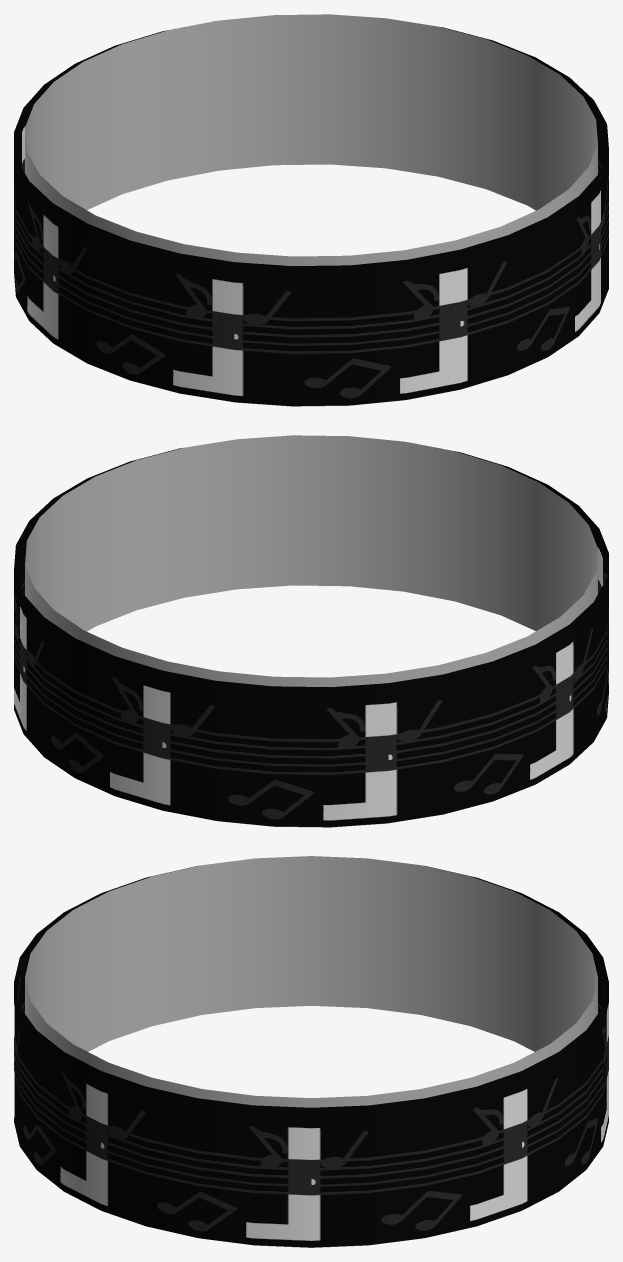
Rendered from LiveDomeCircle.fbx.
3 views of the same model, one above another, from view 1: azimuth 30°, elevation 25°; view 2: azimuth 150°, elevation 25°; view 3: azimuth 270°, elevation 25° (orthographic).
Visible parts, largest first — view 1: CircleIn, CircleOut; view 2: CircleIn, CircleOut; view 3: CircleIn, CircleOut.
Boxes of the visible parts, x1,y1,x2,y2 form: CircleIn: (25,14,597,406); CircleOut: (14,21,608,406); CircleIn: (25,435,597,827); CircleOut: (14,442,608,827); CircleIn: (25,856,597,1247); CircleOut: (14,865,608,1247).
Bounding box in the file's own units: 2700 × 750 × 2700.
